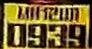character: (27, 23, 47, 49), (47, 22, 67, 48), (6, 22, 26, 47), (68, 23, 87, 49)
